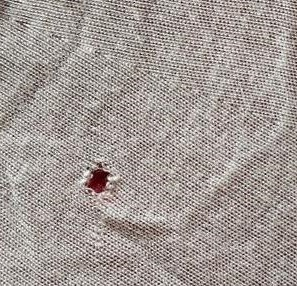hole: (74, 156, 125, 200)
